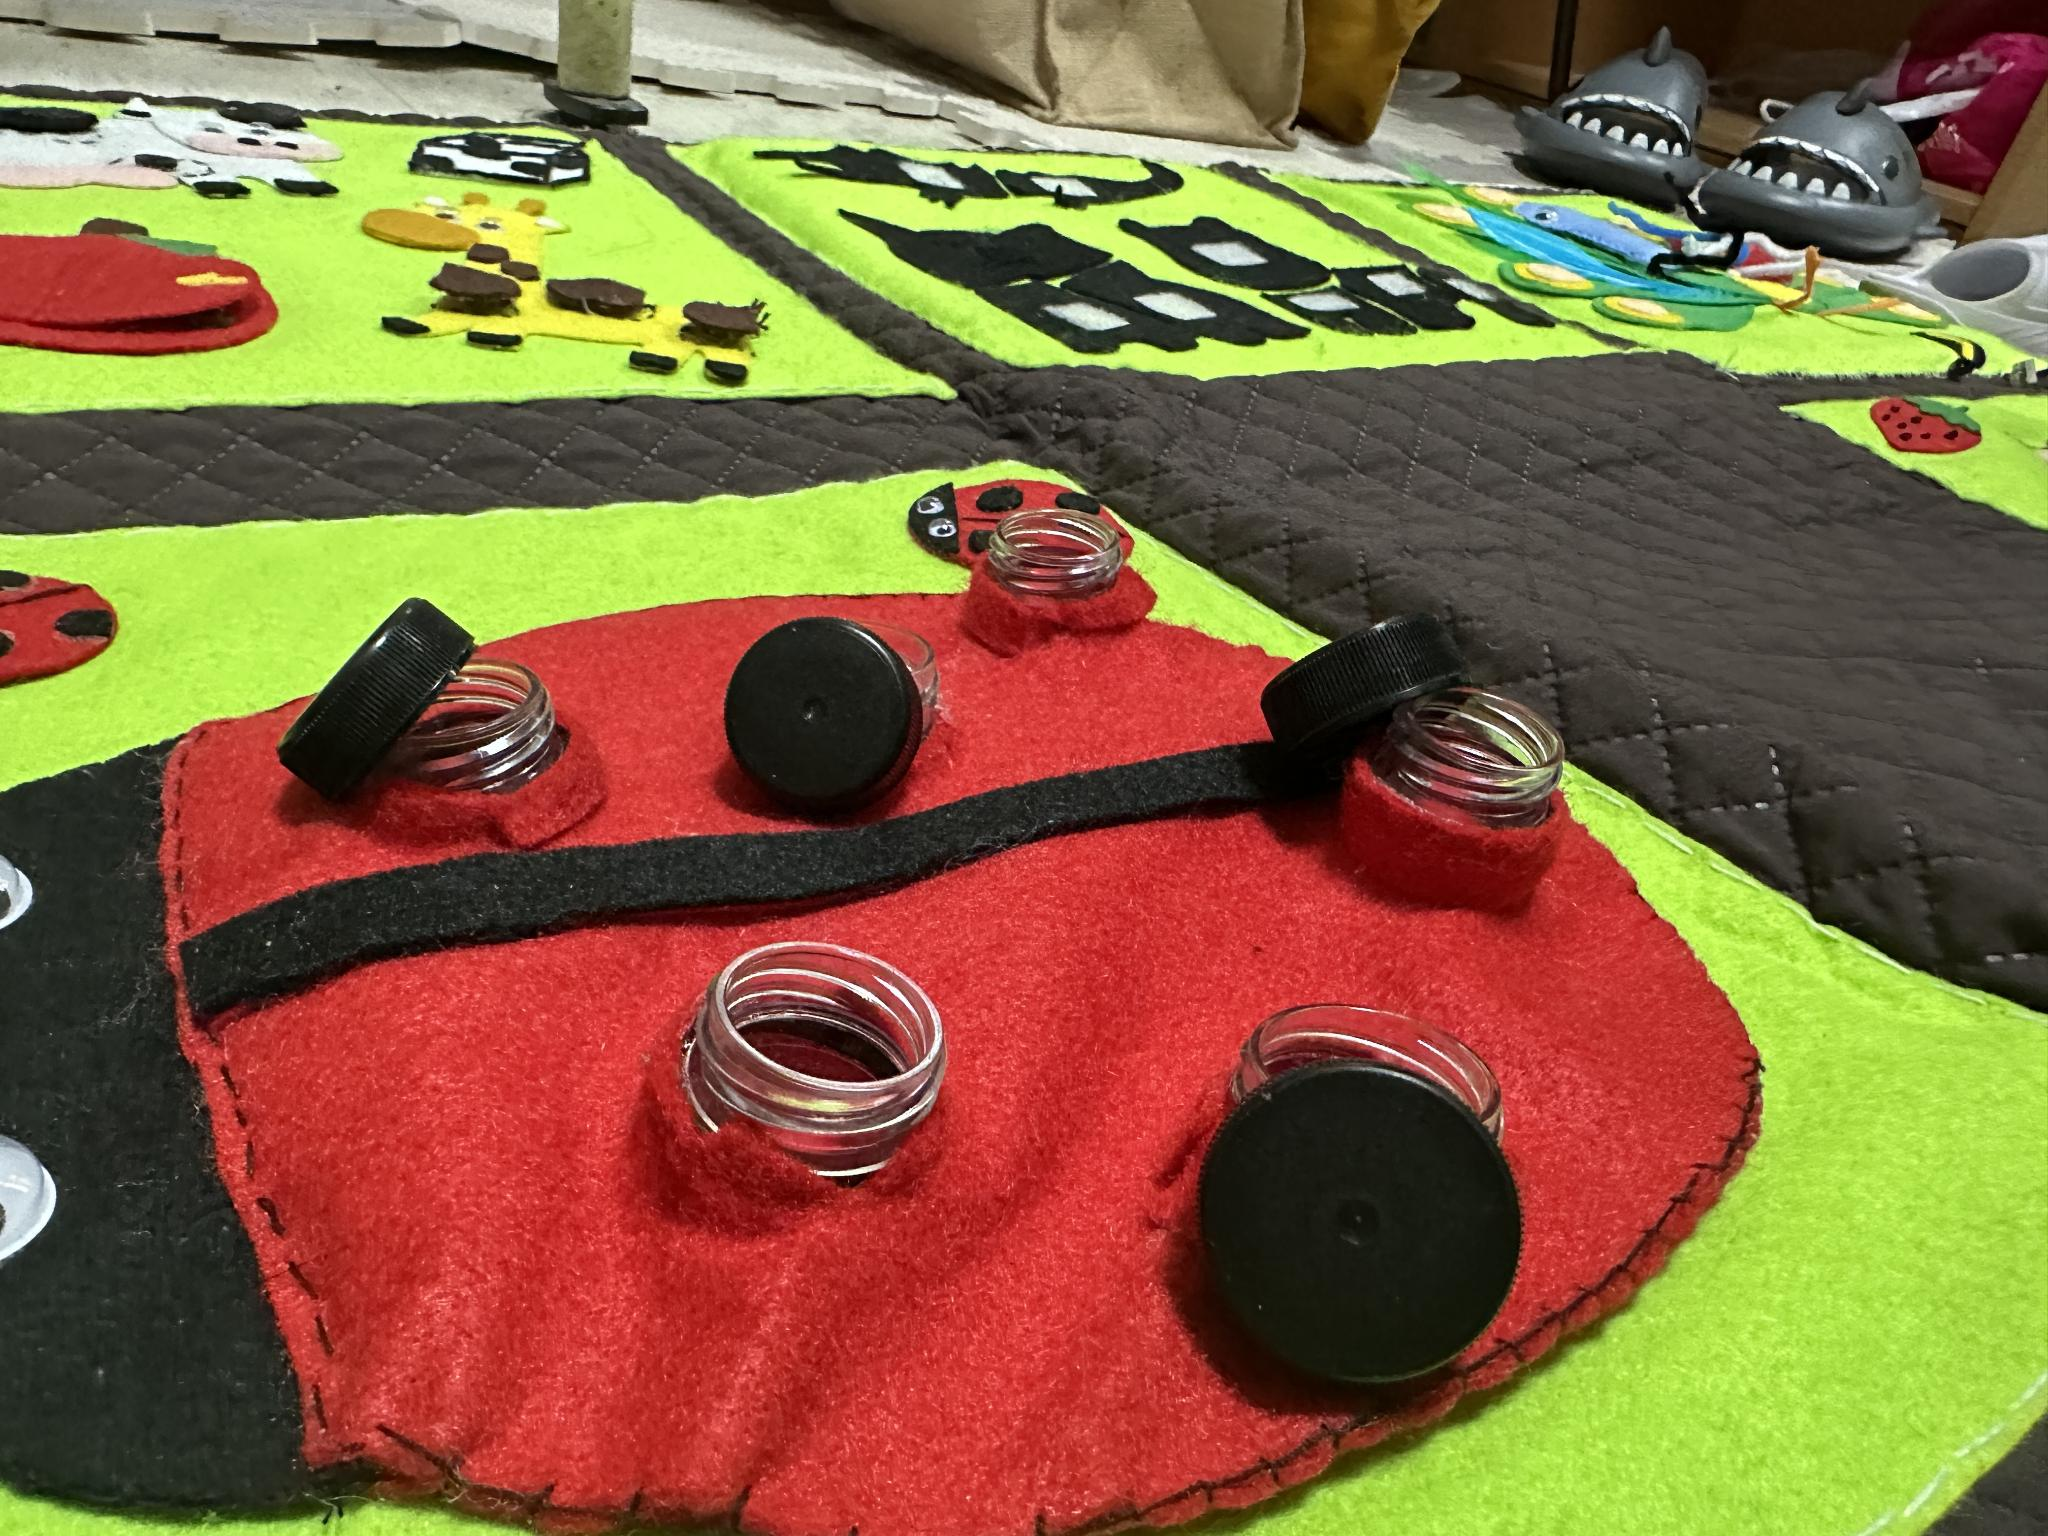cap_ng: (1169, 978, 1545, 1425), (1259, 589, 1584, 910), (271, 591, 611, 850), (703, 595, 979, 837)
